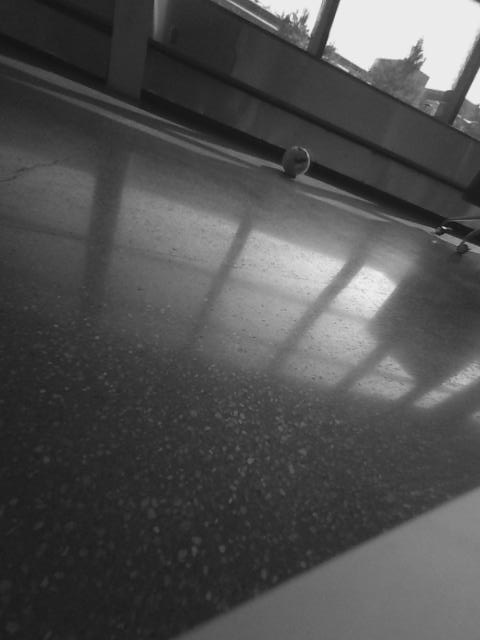ball: (280, 145, 311, 177)
